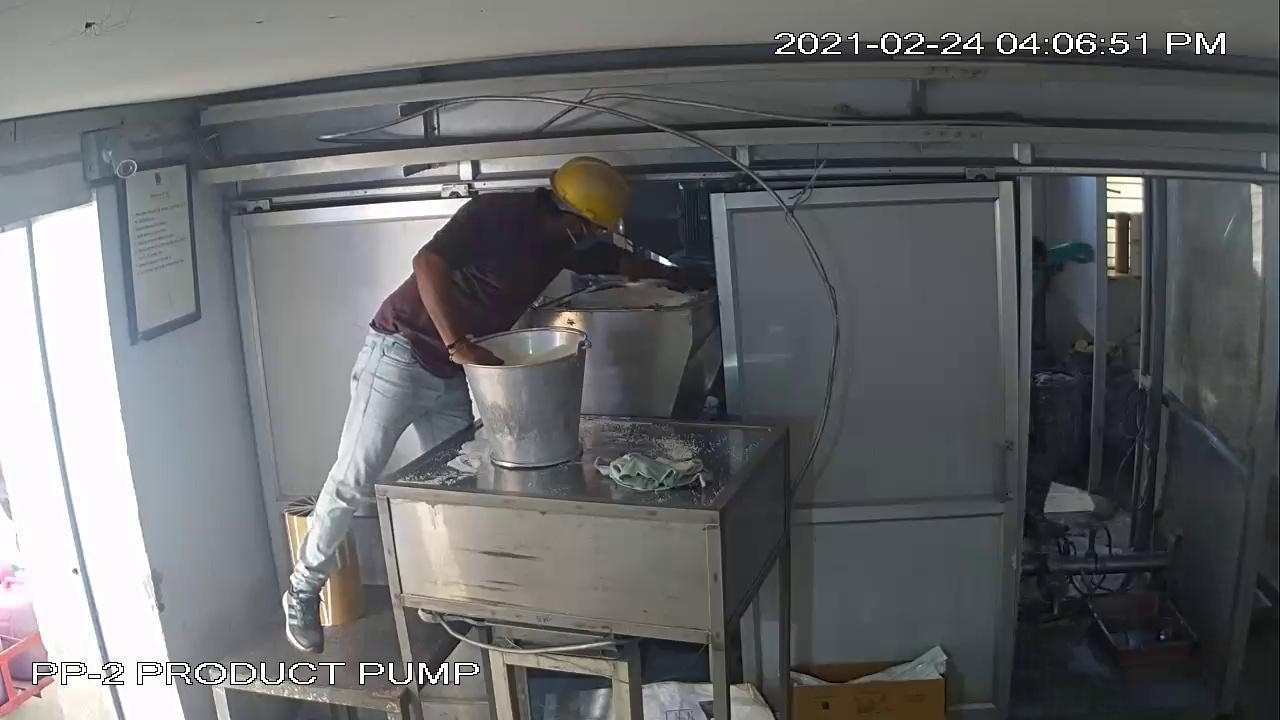helmet: (537, 138, 643, 241)
